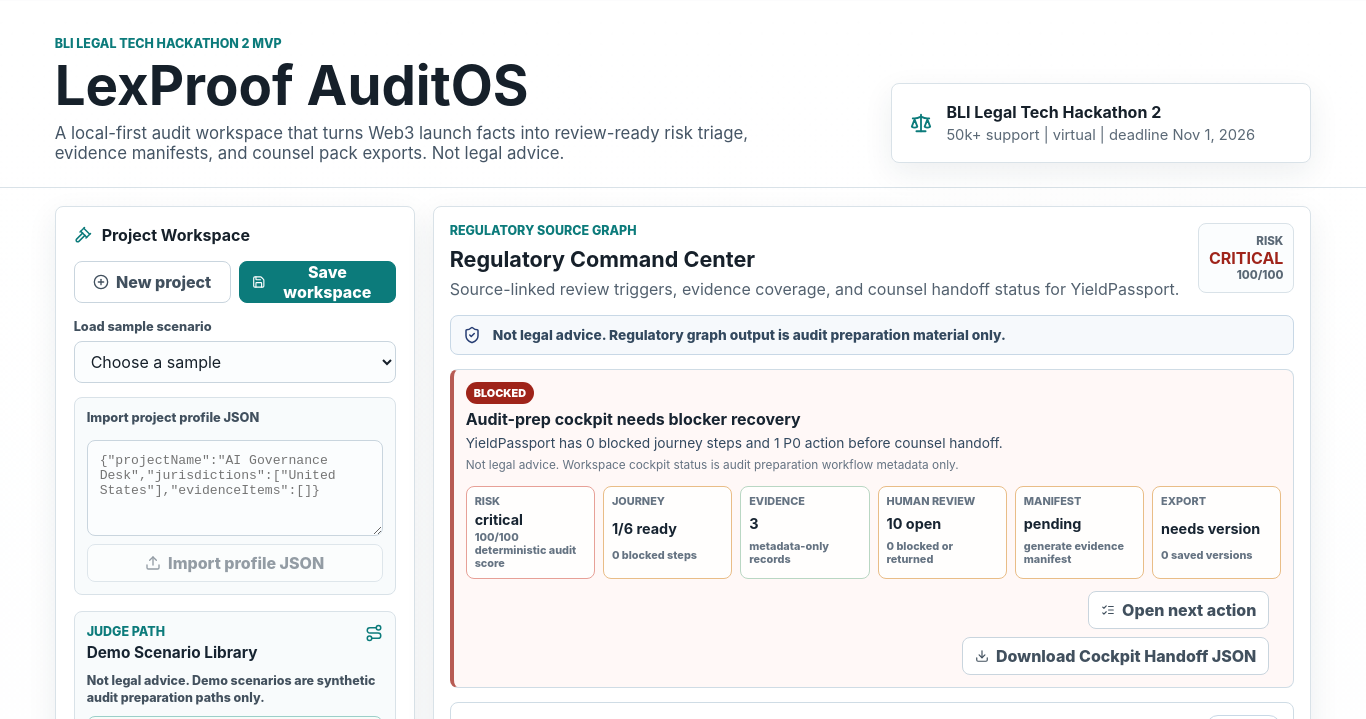
App › downloads a metadata-only Workspace Cockpit Handoff JSON from the command center
This screenshot has width=1366, height=719.
Click the button "Download Cockpit Handoff JSON".
click(1116, 656)  # box [962, 638, 1269, 676]
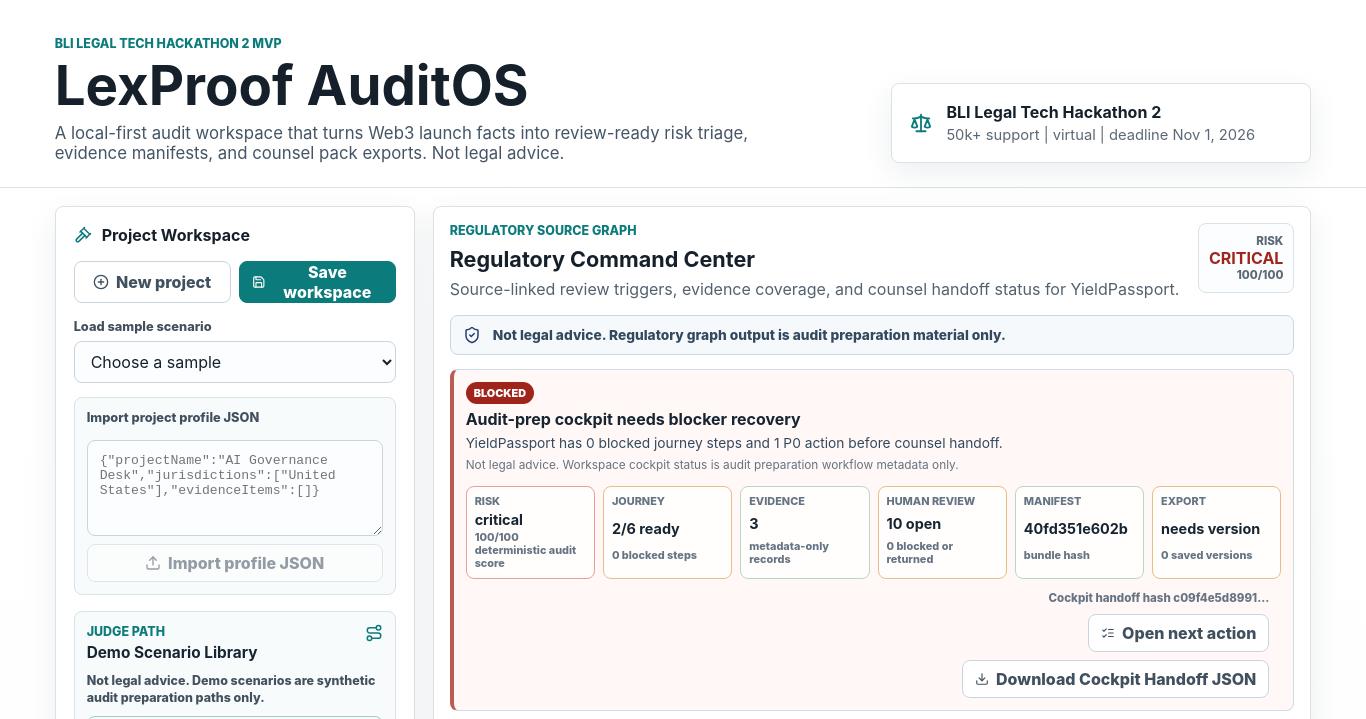
Expected: the text "Cockpit handoff hash c09f4e5d8991..." is shown, [1048, 592, 1269, 606]
